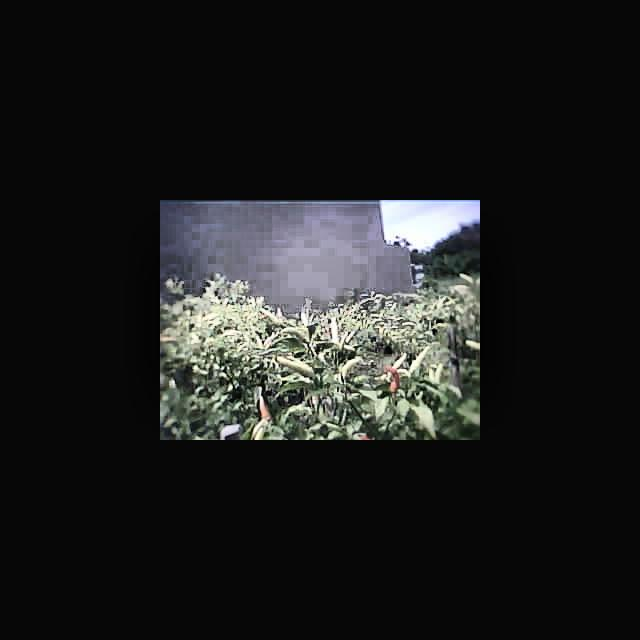Cabai: (246, 394, 280, 423), (375, 365, 407, 395)
